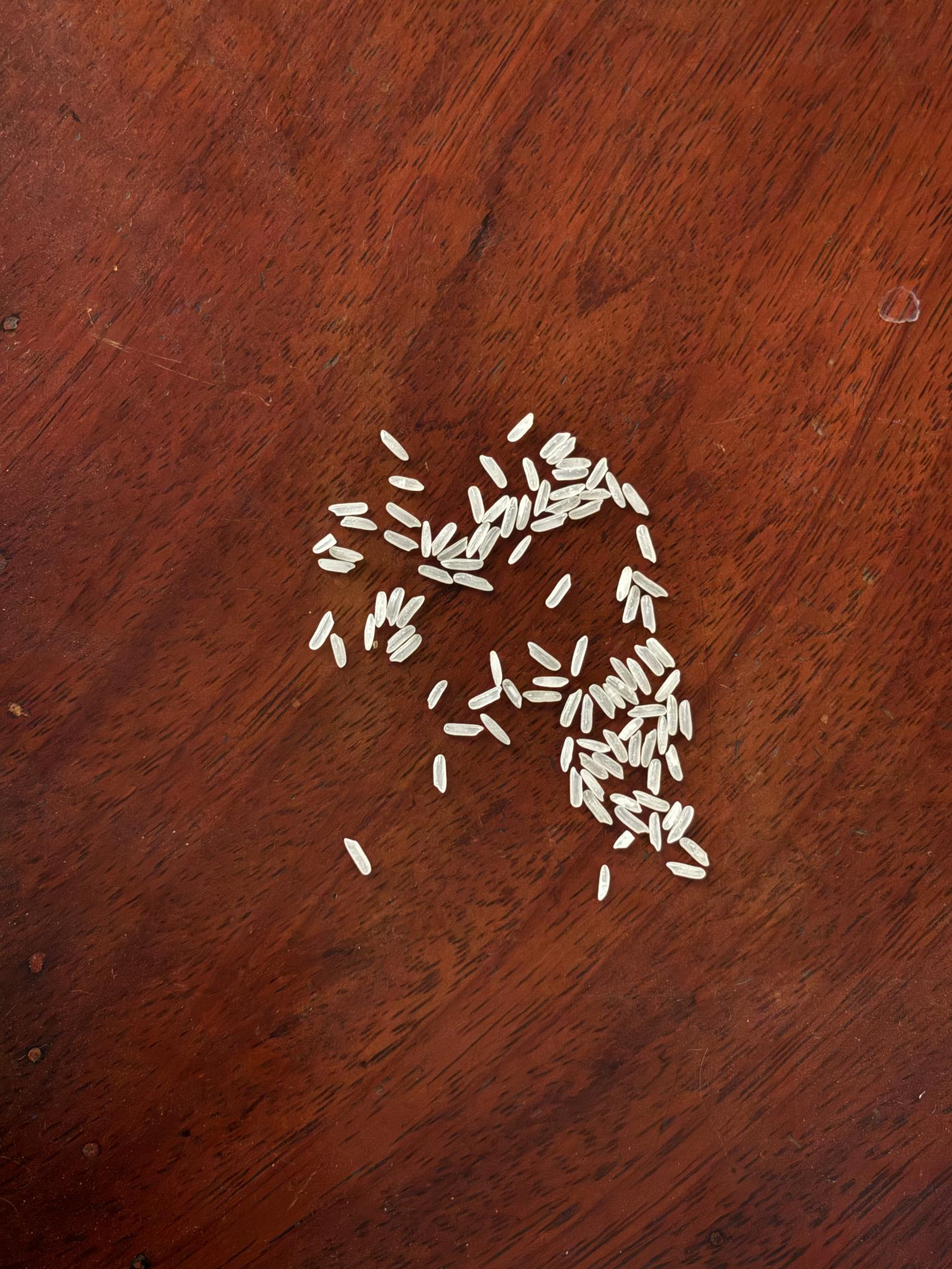Rice-th-y-nh: (344, 838, 371, 875), (668, 806, 694, 844), (583, 790, 612, 824), (480, 714, 511, 744), (309, 613, 334, 650), (527, 642, 560, 670), (614, 806, 648, 833), (396, 596, 424, 628), (480, 456, 508, 488), (389, 635, 422, 662), (633, 572, 668, 597), (608, 677, 639, 705), (610, 658, 637, 690), (592, 752, 624, 779), (628, 659, 652, 695), (590, 684, 615, 718), (635, 645, 663, 675), (381, 430, 408, 461), (431, 523, 457, 555), (546, 575, 571, 608), (466, 522, 490, 556), (680, 838, 709, 866), (655, 670, 680, 702), (387, 503, 420, 527), (560, 690, 582, 726), (604, 729, 628, 762), (387, 625, 415, 653), (481, 496, 510, 523), (648, 638, 675, 667), (453, 572, 494, 591), (623, 484, 648, 515), (633, 791, 669, 812), (579, 753, 608, 779), (500, 497, 518, 538), (586, 458, 609, 490), (508, 414, 534, 442), (548, 438, 576, 464), (540, 433, 570, 457), (469, 687, 501, 709), (606, 472, 626, 507), (508, 535, 532, 564), (479, 527, 500, 560), (581, 770, 604, 800), (637, 526, 656, 562), (437, 538, 468, 560), (571, 636, 588, 676), (665, 745, 683, 781), (386, 588, 404, 624), (533, 480, 551, 516), (385, 531, 417, 551), (623, 586, 640, 623), (667, 863, 706, 879), (418, 565, 452, 583), (640, 731, 657, 767), (569, 501, 603, 519), (531, 515, 567, 532), (610, 793, 641, 812), (568, 768, 583, 807), (516, 496, 533, 530), (619, 717, 643, 741), (628, 703, 666, 718), (468, 487, 484, 522), (550, 484, 585, 500), (616, 566, 632, 601), (428, 680, 447, 709), (503, 679, 522, 708), (604, 684, 626, 709), (442, 558, 484, 571), (662, 802, 681, 830), (342, 516, 377, 531), (389, 476, 424, 491), (641, 596, 656, 631), (373, 592, 388, 627), (523, 458, 539, 490), (330, 635, 346, 667), (548, 497, 580, 513), (329, 503, 368, 516), (445, 723, 483, 736), (580, 695, 593, 733), (319, 559, 354, 573), (489, 651, 503, 686), (649, 813, 662, 850), (679, 701, 692, 738), (560, 737, 574, 771), (555, 457, 591, 470), (666, 696, 678, 735), (330, 547, 363, 561), (435, 755, 447, 793), (628, 731, 641, 766), (648, 760, 661, 795), (597, 865, 610, 900), (363, 615, 376, 649), (313, 534, 336, 553), (524, 691, 562, 702), (577, 739, 609, 752), (657, 716, 668, 753), (553, 469, 588, 480), (533, 676, 568, 687), (613, 831, 634, 849), (421, 521, 431, 557), (580, 488, 609, 500)
